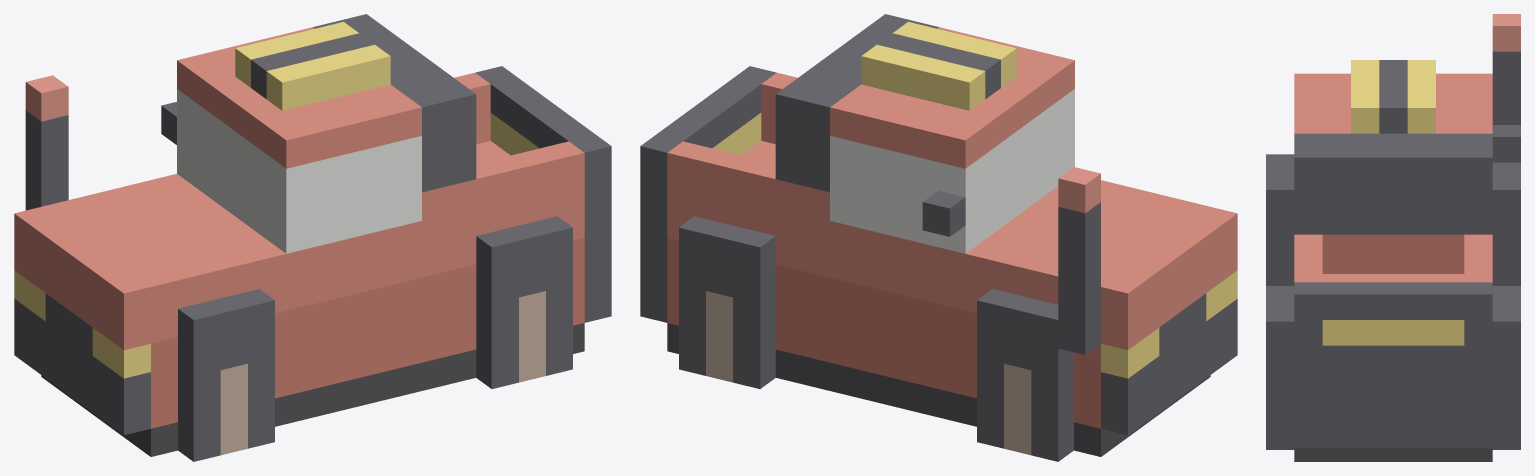
The model's file is voxel_truck.glb.
3 renders of one model, left to right at view 1: azimuth 30°, elevation 25°; view 2: azimuth 150°, elevation 25°; view 3: azimuth 270°, elevation 25°, orthographic. The views are drawn at different scales.
Bounding box in the file's own units: 1 × 0.6111 × 0.5.
